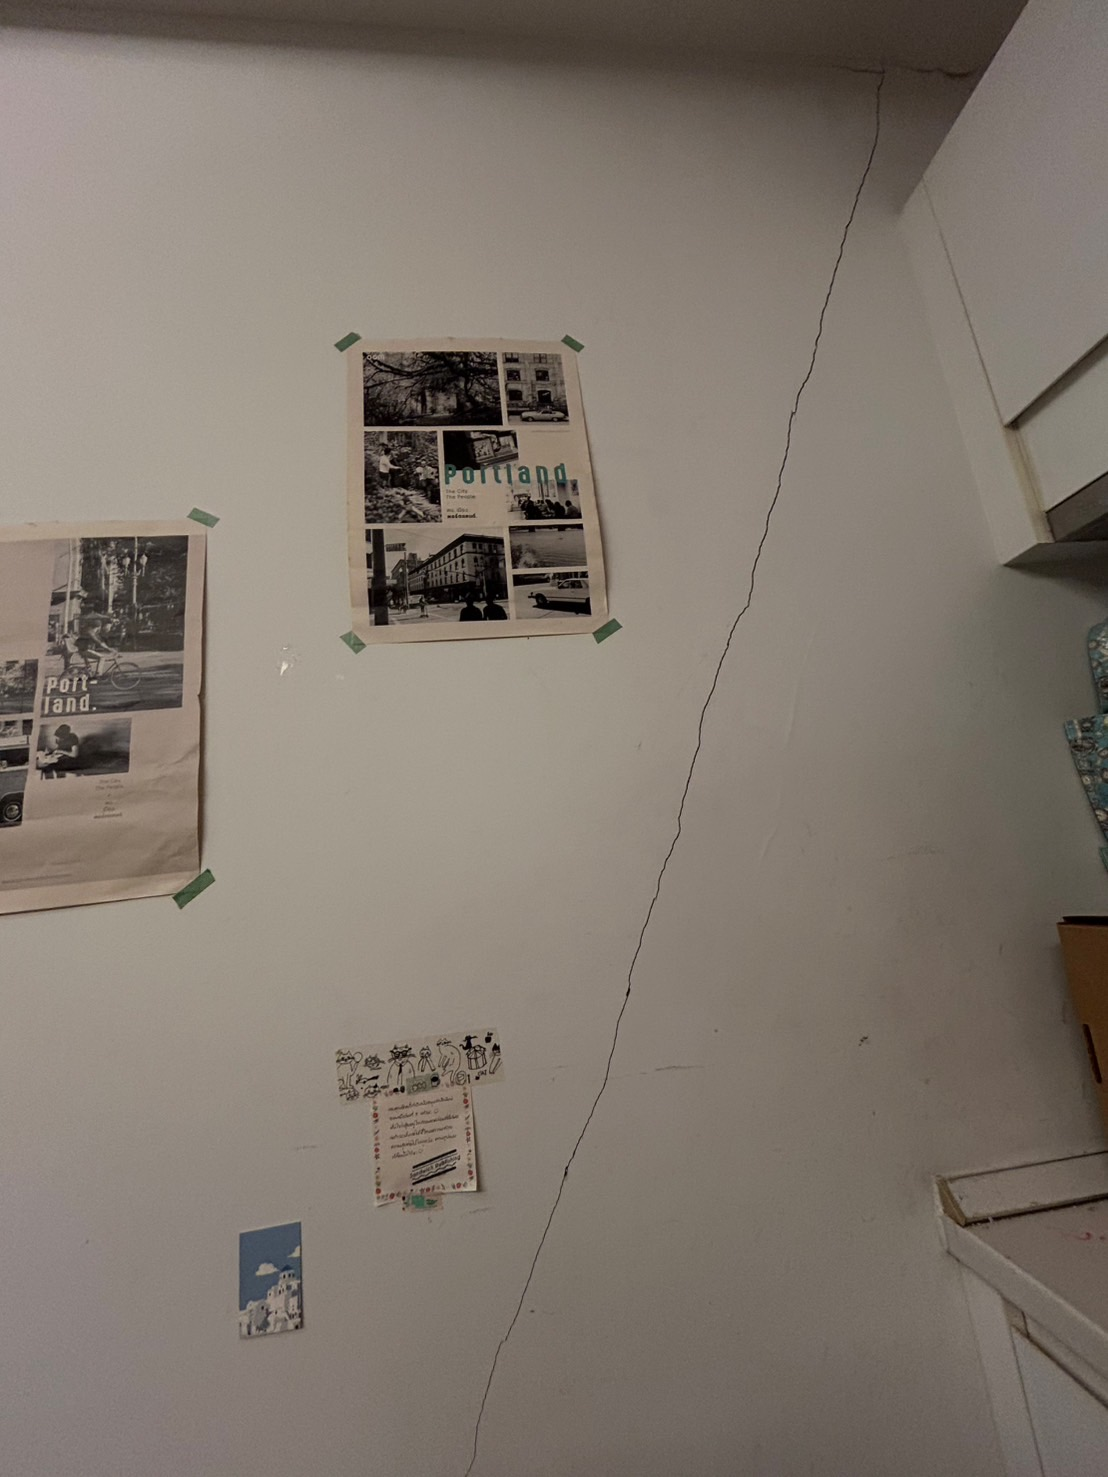Low: (448, 54, 950, 1472)
